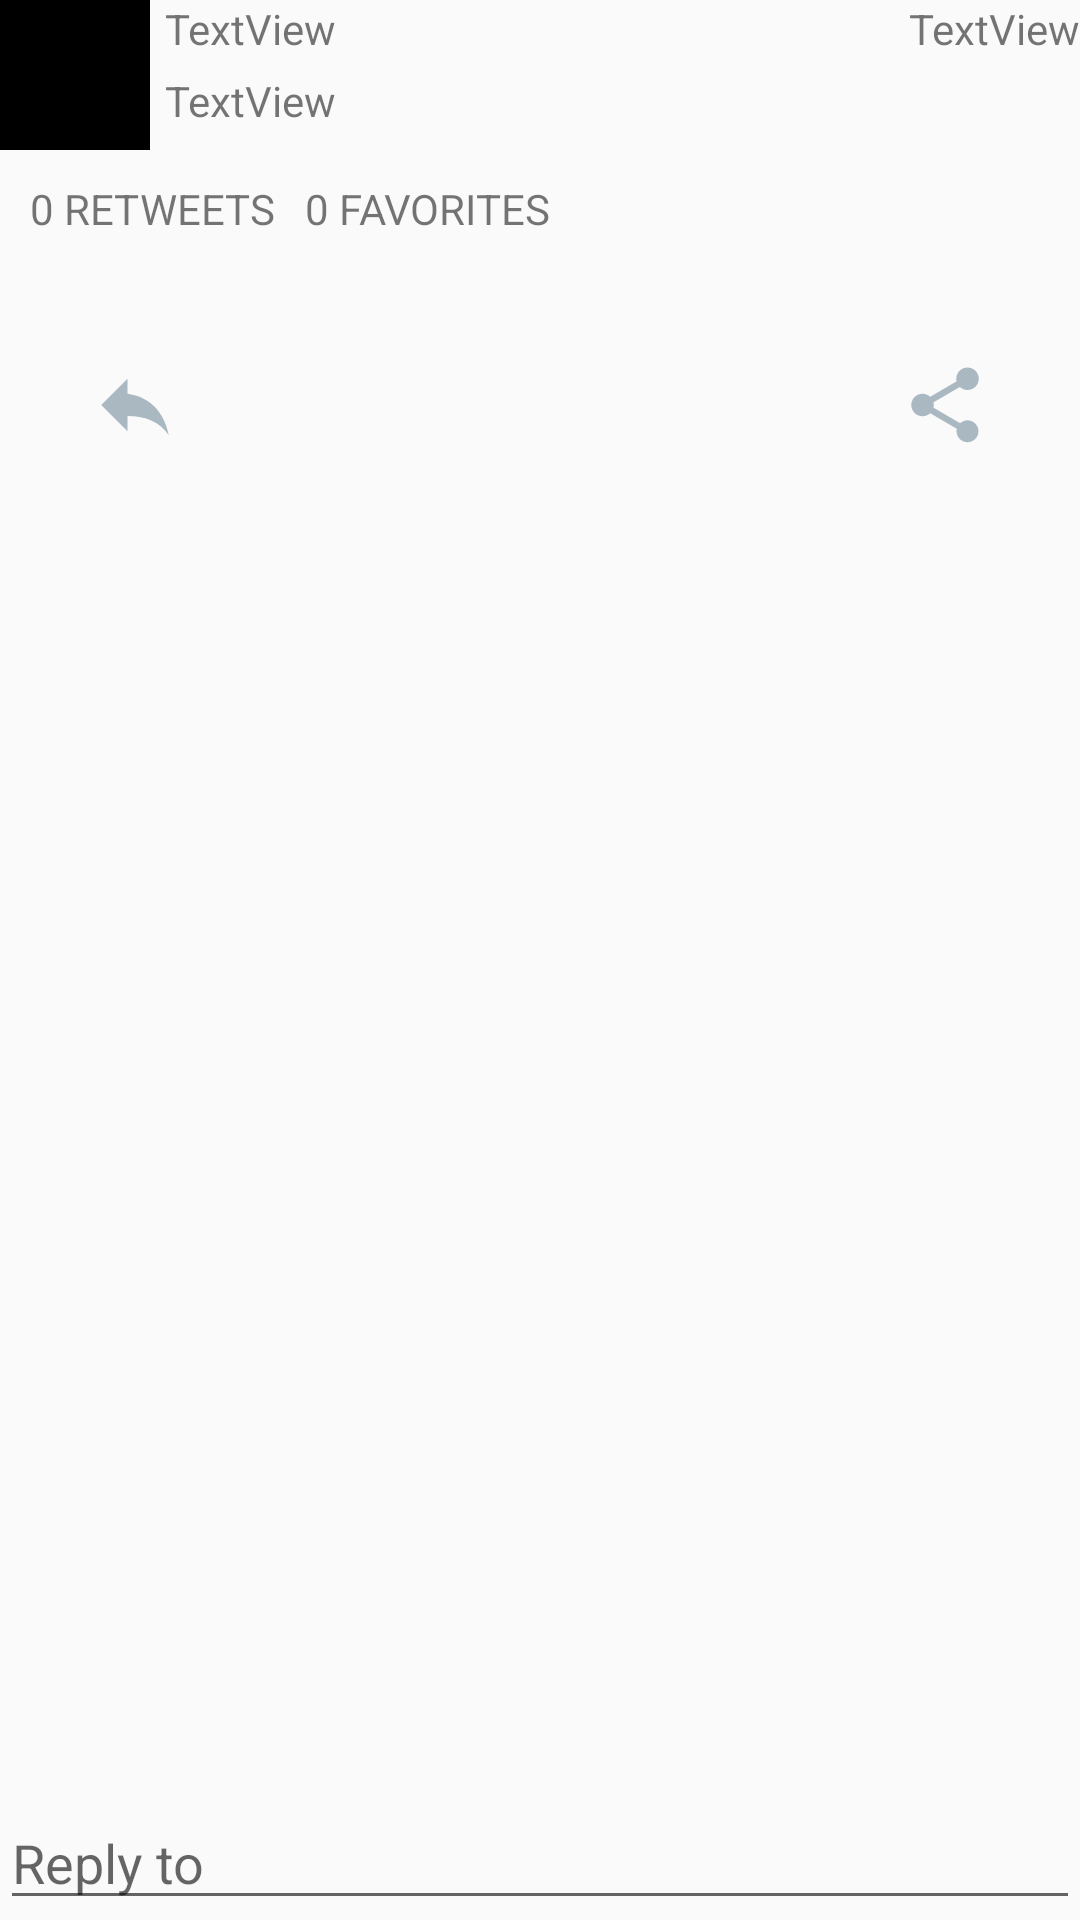

Screen size 1080px×1920px. Icon name, then its box in pixels as (x1, y1, x2, y2):
share: (911, 367, 979, 442)
